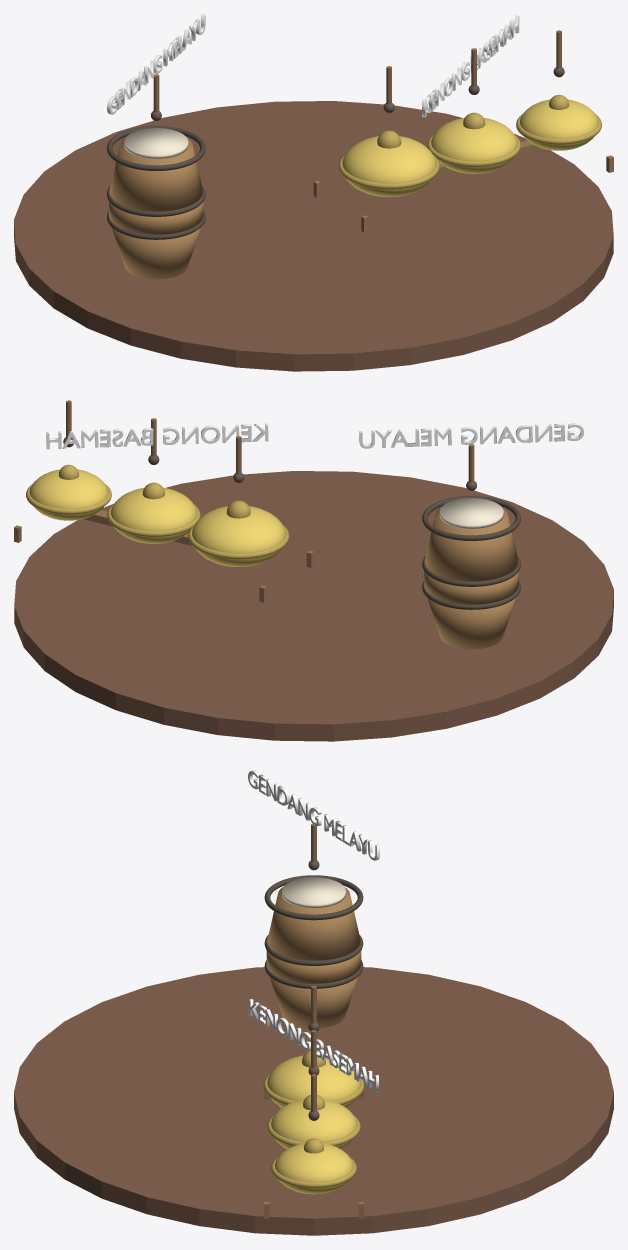
Rendered from TUGAS_PROJEK_UAS_.glb.
3 renders of one model, top to bottom at view 1: azimuth 30°, elevation 25°; view 2: azimuth 150°, elevation 25°; view 3: azimuth 270°, elevation 25°, orthographic.
Parts seen in each view (by area): view 1: Struktur_AlatMusik, Label_GENDANG_MELAYU, Label_KENONG_BASEMAH, Kulit_Gendang; view 2: Struktur_AlatMusik, Label_KENONG_BASEMAH, Label_GENDANG_MELAYU, Kulit_Gendang; view 3: Struktur_AlatMusik, Label_KENONG_BASEMAH, Label_GENDANG_MELAYU, Kulit_Gendang.
Boxes of the visible parts, x1,y1,x2,y2 form: Struktur_AlatMusik: (14,99,613,371); Label_GENDANG_MELAYU: (107,14,205,114); Label_KENONG_BASEMAH: (422,15,519,117); Kulit_Gendang: (124,128,188,158); Struktur_AlatMusik: (14,469,613,741); Label_KENONG_BASEMAH: (46,423,268,449); Label_GENDANG_MELAYU: (359,423,583,448); Kulit_Gendang: (439,498,503,528); Struktur_AlatMusik: (14,875,613,1235); Label_KENONG_BASEMAH: (248,998,378,1092); Label_GENDANG_MELAYU: (248,770,379,860); Kulit_Gendang: (282,877,345,907).
Bounding box in the file's own units: 3.96 × 1.57 × 3.8.
